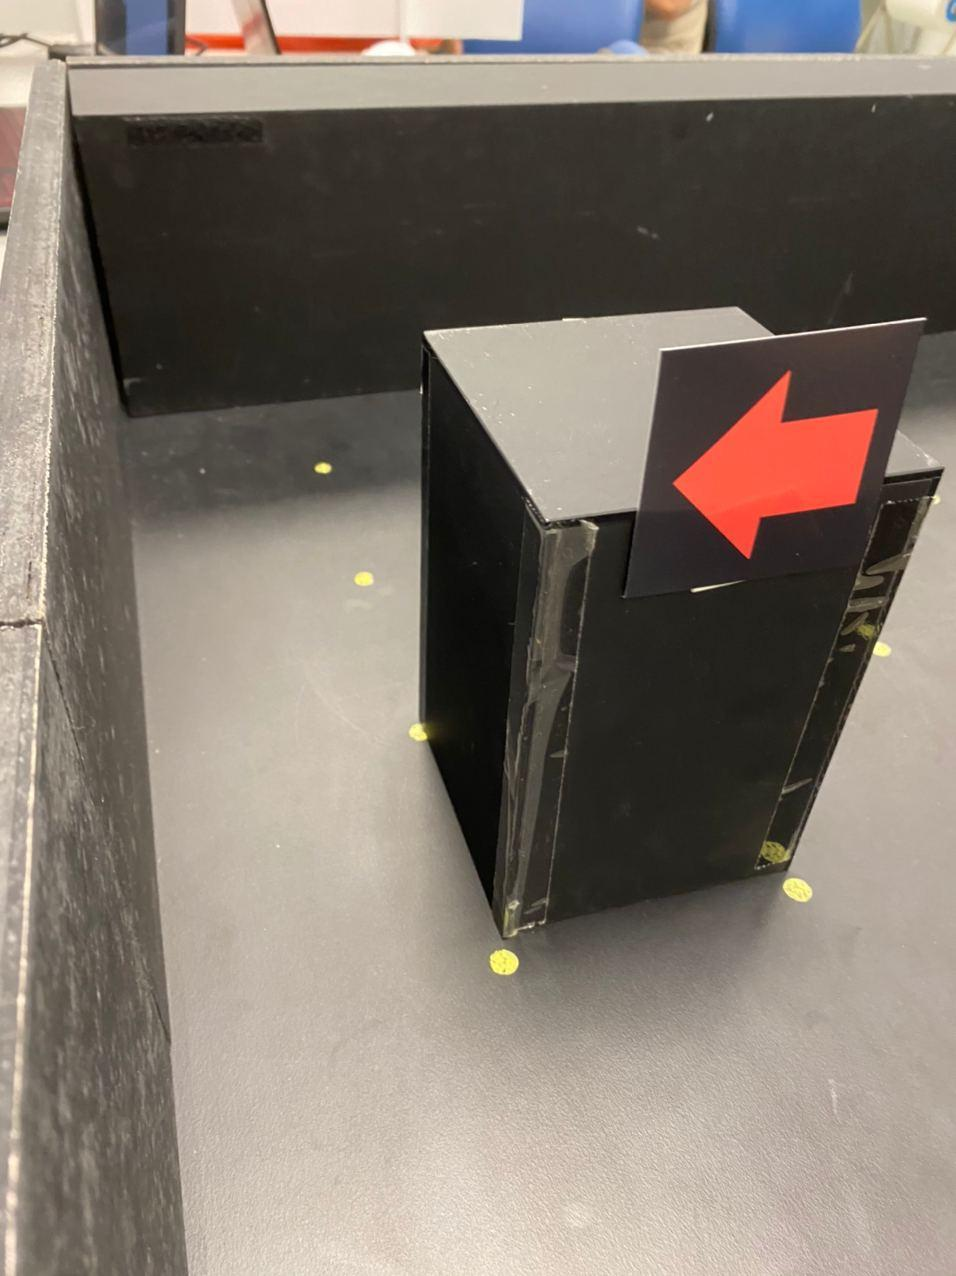left: (673, 376, 882, 561)
